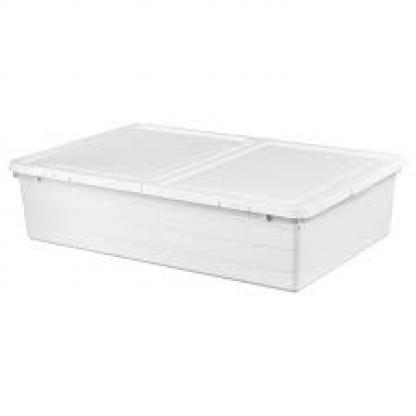plastic_box: (9, 80, 412, 302)
